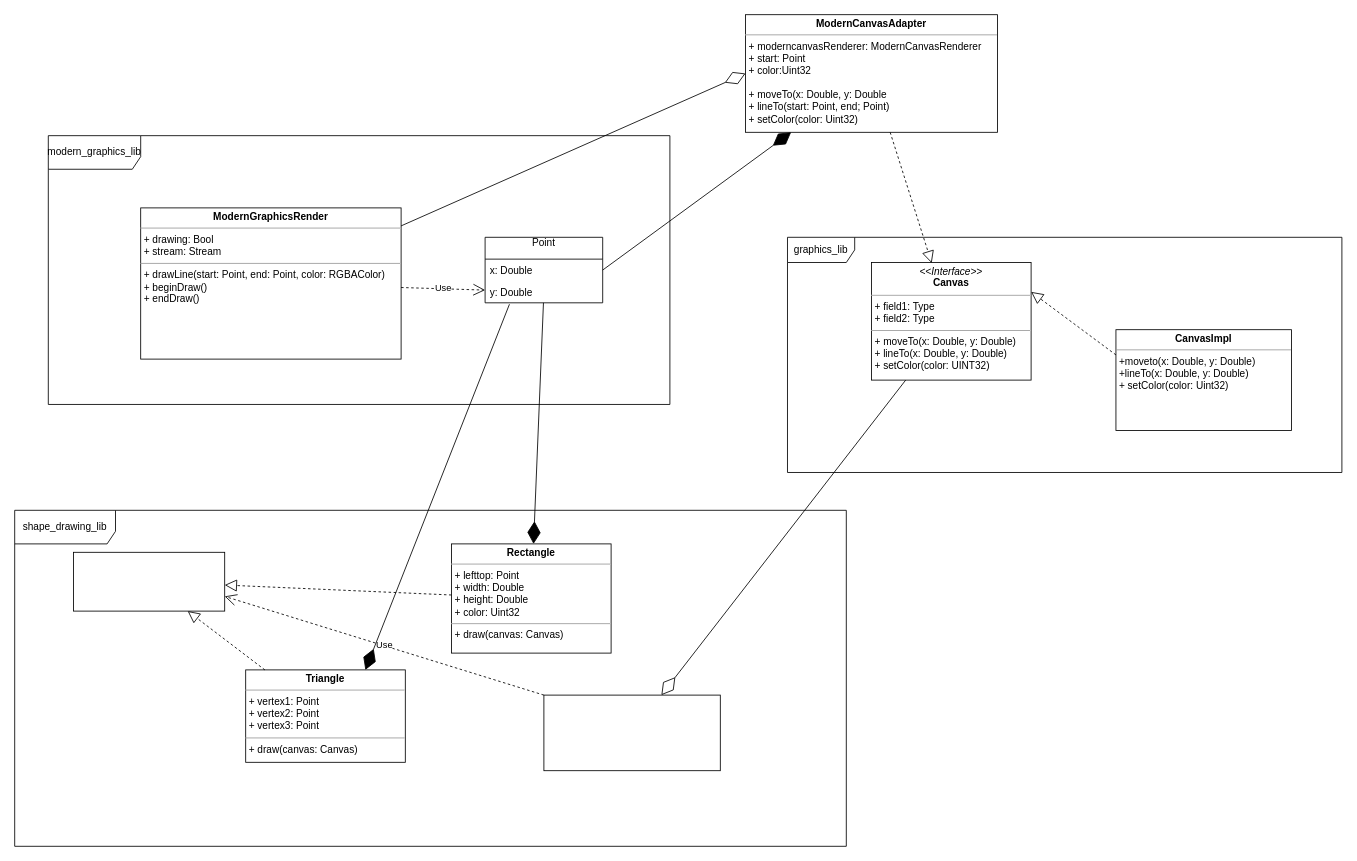
Image size: 1357x861. Some labels were removed from this diagram. The centre of each missing label's shape, as x and y in pixels:
CanvasPainter + canvas: Canvas + draw(drawable: CanvasDrawable): point 631,732
«protocol» Drawable + draw(canvas: canvas): point 149,581
